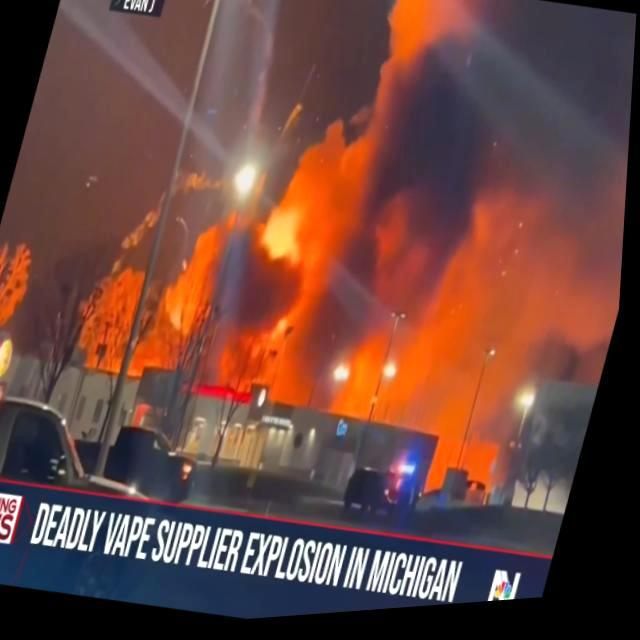fire: (109, 22, 616, 500)
